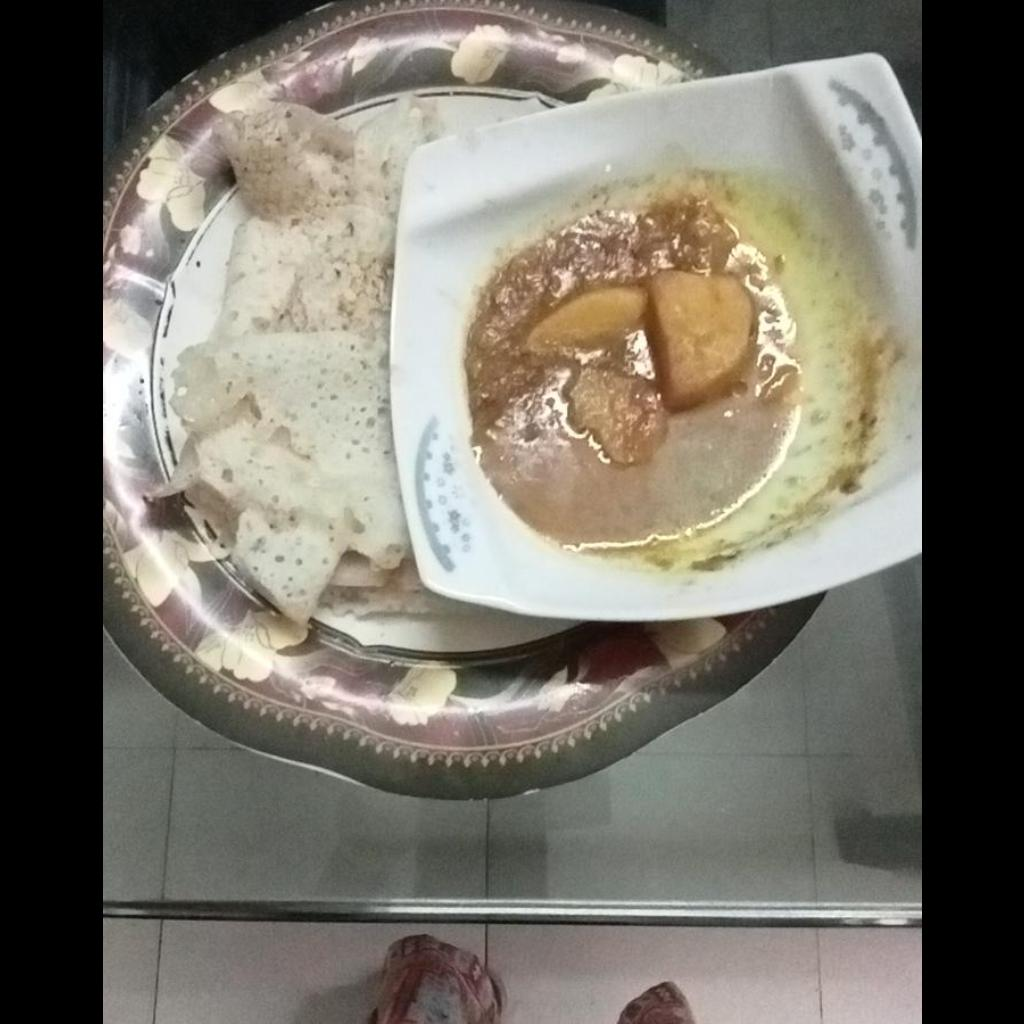potato: (466, 191, 803, 542)
ruti: (157, 95, 473, 618)
